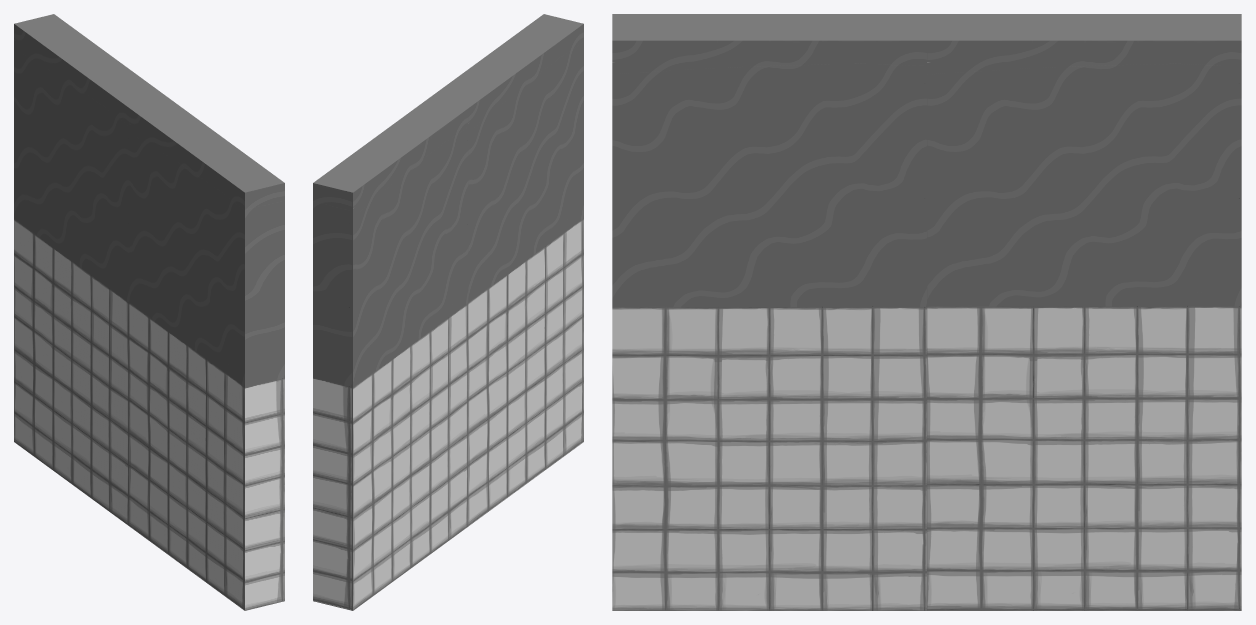
Rendered from S_Wall_2x2.fbx.
3 views of the same model, side by side, from view 1: azimuth 30°, elevation 25°; view 2: azimuth 150°, elevation 25°; view 3: azimuth 270°, elevation 25° (orthographic). The views are drawn at different scales.
Visible parts, largest first — view 1: Cube; view 2: Cube; view 3: Cube.
Boxes of the visible parts, x1,y1,x2,y2 form: Cube: (14, 14, 284, 610); Cube: (313, 14, 583, 610); Cube: (612, 14, 1241, 610).
Bounding box in the file's own units: 0.2 × 2 × 2.
